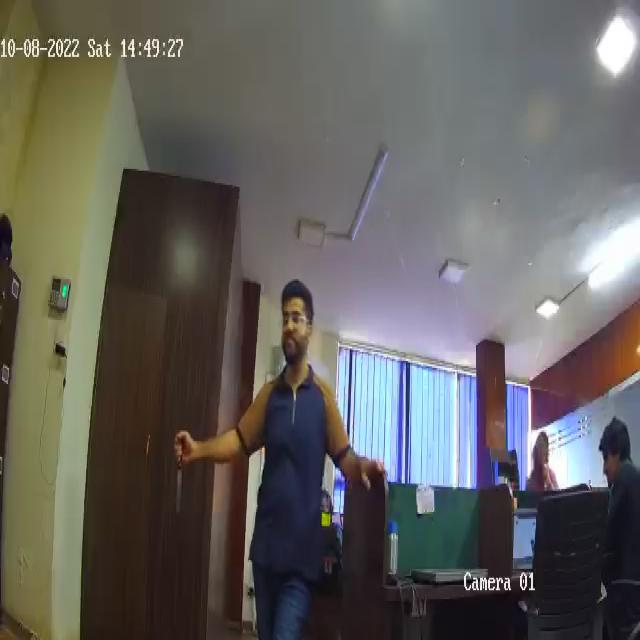Knife: (170, 428, 187, 521)
